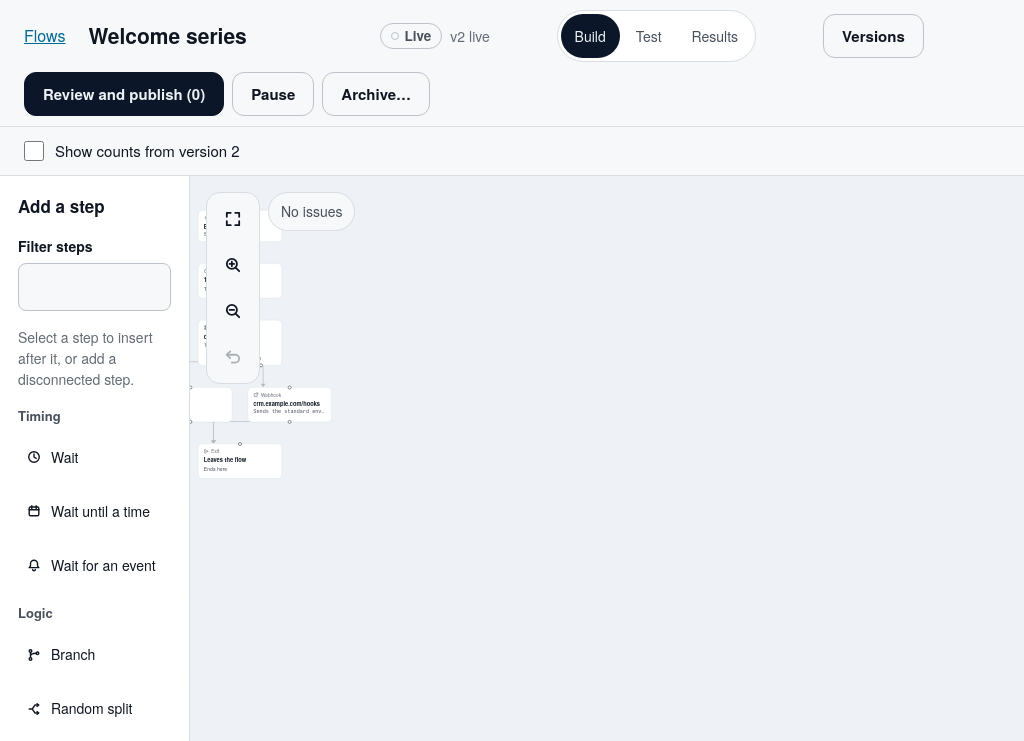
Test: pause and resume › pauses a live flow and resumes it
This screenshot has width=1024, height=741.
What coordinates should you click on to do the following:
click the button "Pause"
I would click on:
 (273, 94)
Its box is top-left (232, 72), bottom-right (314, 116).
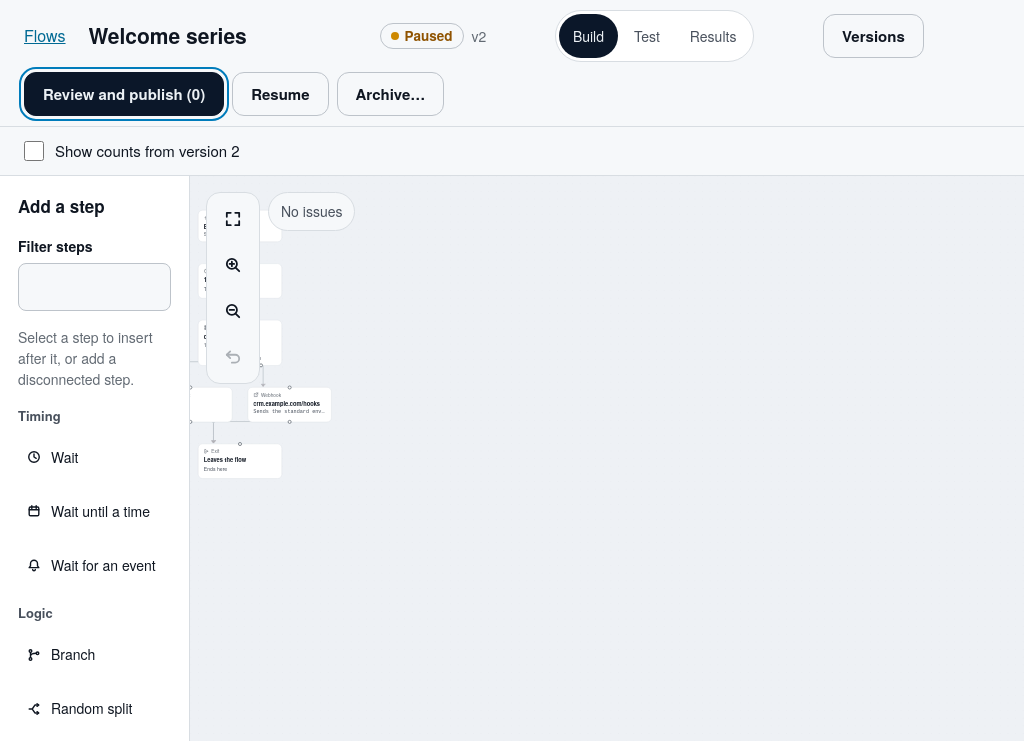
Expected: the text "Paused" is shown, top-left (380, 23), bottom-right (464, 49)
Expected: the button "Resume" is shown
What coordinates should you click on to do the following:
click the button "Resume"
I would click on:
 (280, 94)
Its box is top-left (232, 72), bottom-right (329, 116).
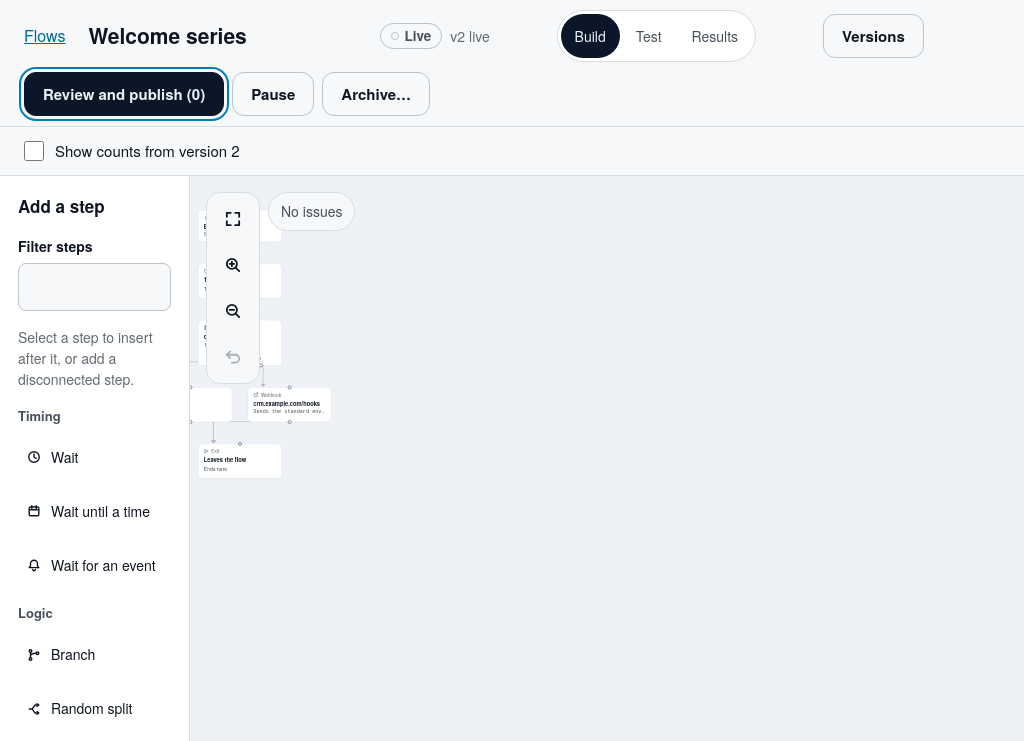
Expected: the text "Live" is shown, top-left (380, 23), bottom-right (442, 49)
Expected: the button "Pause" is shown, top-left (232, 72), bottom-right (314, 116)
